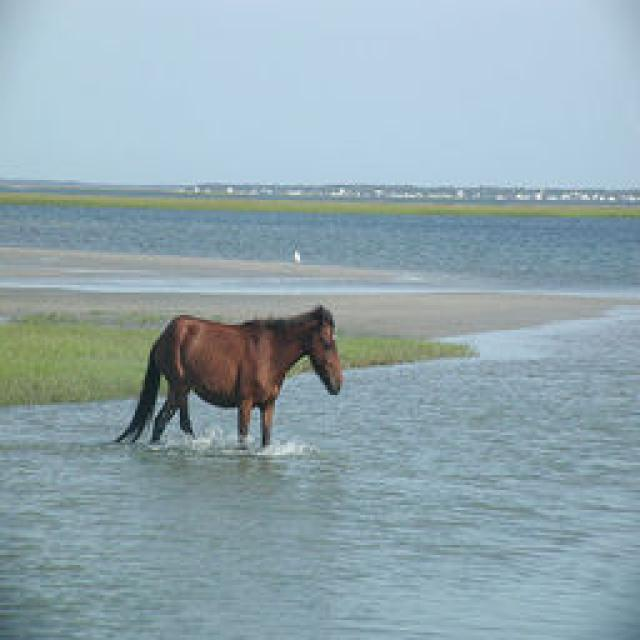Horse: (117, 302, 345, 456)
